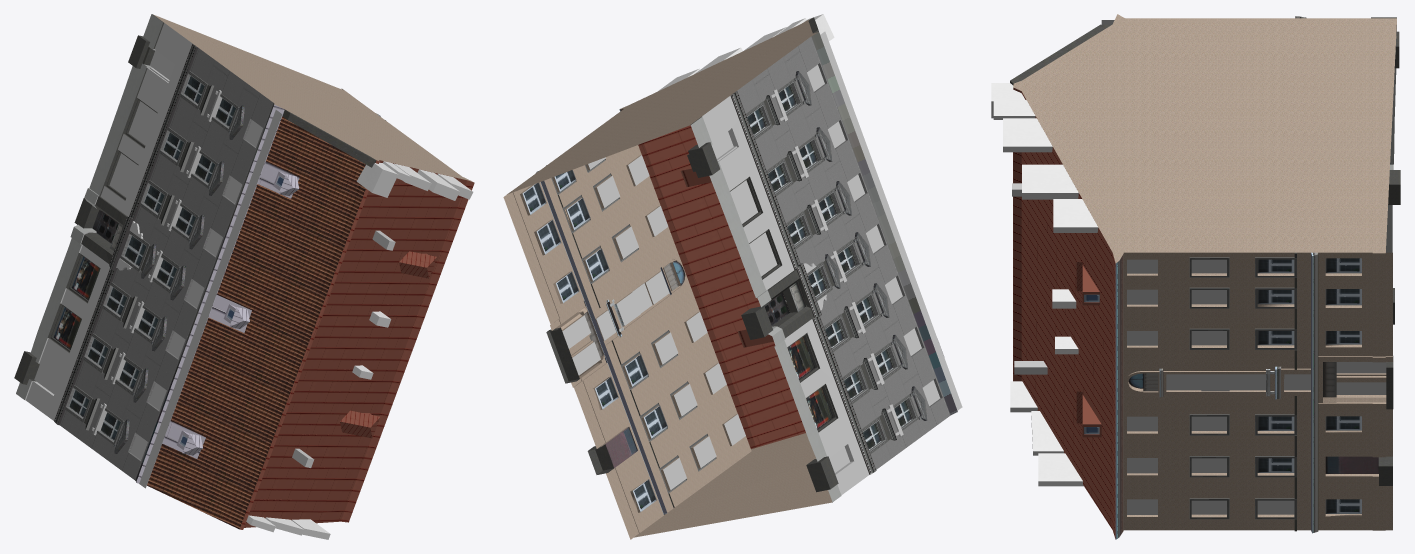
Rendered from Harju_5.obj.
The picture shows the model from 3 angles, left to right: view 1: azimuth 30°, elevation 25°; view 2: azimuth 150°, elevation 25°; view 3: azimuth 270°, elevation 25°; orthographic projection. The views are drawn at different scales.
Parts seen in each view (by area): view 1: Harju_5; view 2: Harju_5; view 3: Harju_5.
Part boxes in pixels (left/top/right/bottom): Harju_5: left=14, top=14, right=474, bottom=539; Harju_5: left=503, top=14, right=962, bottom=539; Harju_5: left=991, top=14, right=1400, bottom=539.
Bounding box in the file's own units: 21.94 × 27.01 × 20.64.
